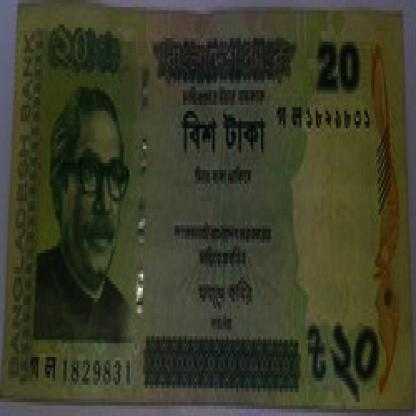Twenty: (303, 319, 384, 402), (175, 107, 276, 170), (304, 21, 370, 97), (50, 17, 128, 80)
